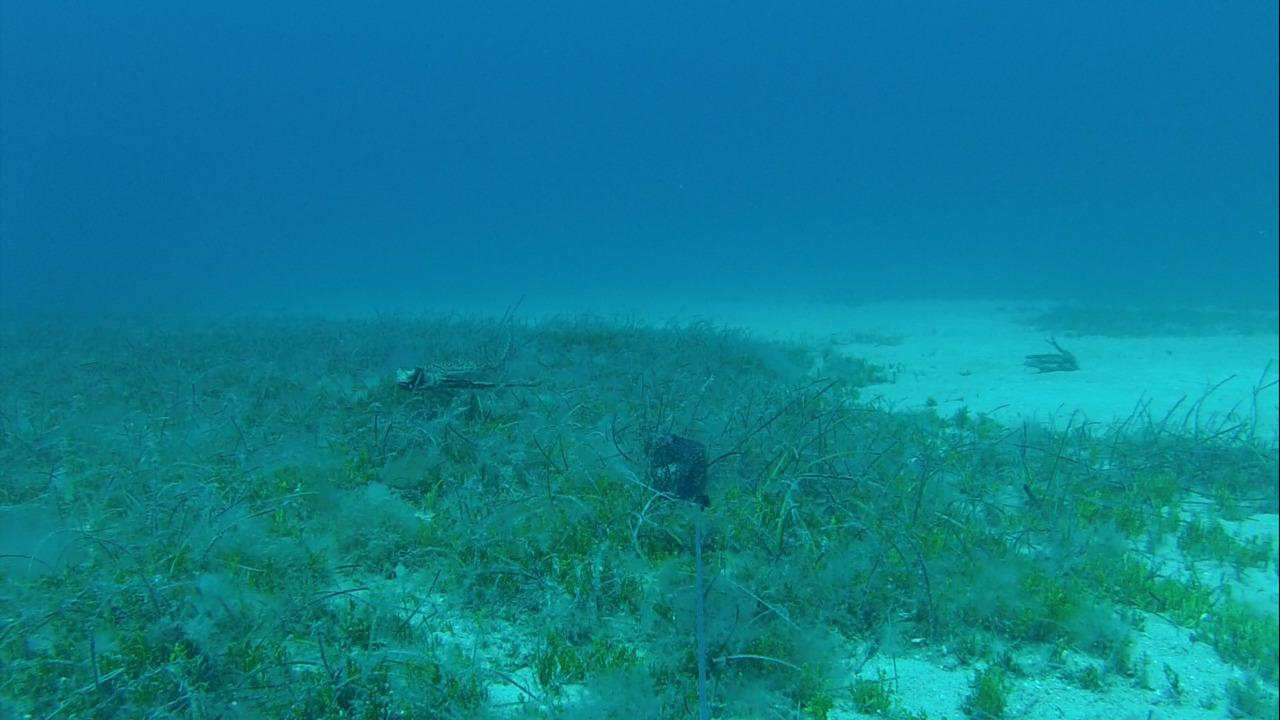dactylopterus: (386, 339, 540, 406)
